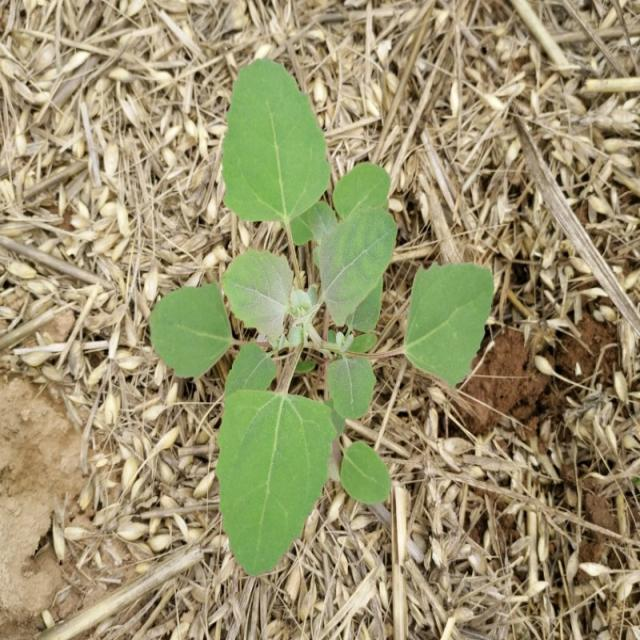ca: (216, 58, 400, 574)
